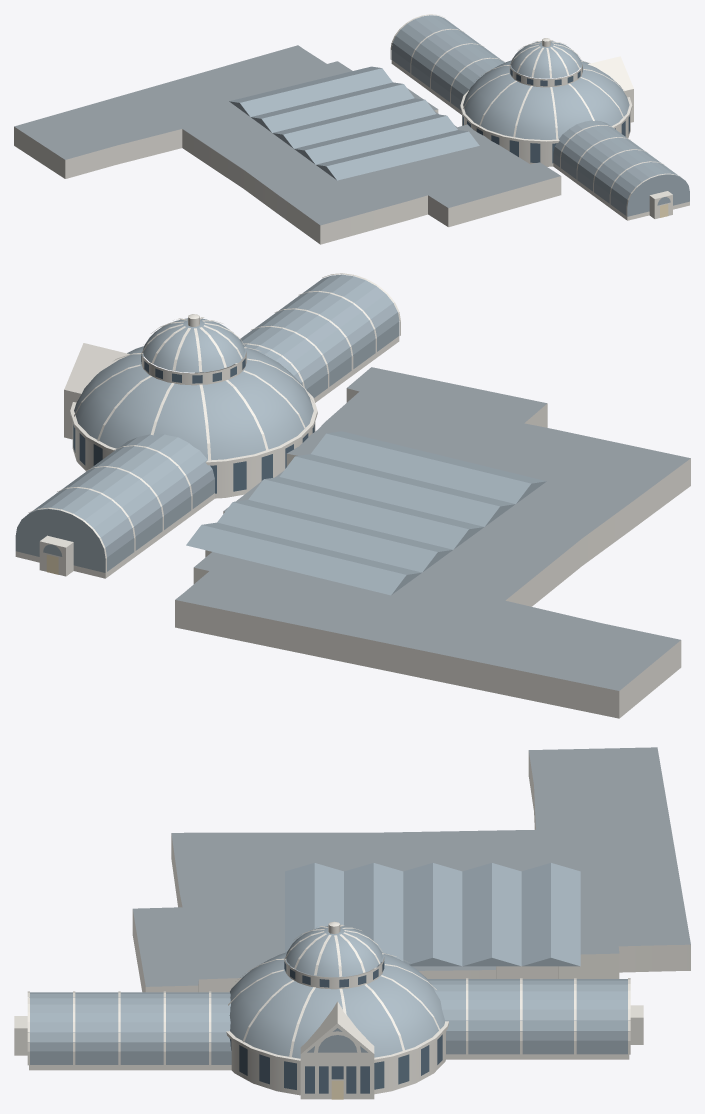
Rendered from msp-marjorie-mcneely-conservatory.glb.
3 views of the same model, one above another, from view 1: azimuth 30°, elevation 25°; view 2: azimuth 150°, elevation 25°; view 3: azimuth 270°, elevation 25° (orthographic). The views are drawn at different scales.
Parts seen in each view (by area): view 1: Marjorie McNeely Conservatory; view 2: Marjorie McNeely Conservatory; view 3: Marjorie McNeely Conservatory.
Part boxes in pixels (x1,y1,x2,y2): Marjorie McNeely Conservatory: (14,14,689,244); Marjorie McNeely Conservatory: (15,273,690,718); Marjorie McNeely Conservatory: (14,747,690,1099).
Bounding box in the file's own units: 118 × 21.3 × 103.
